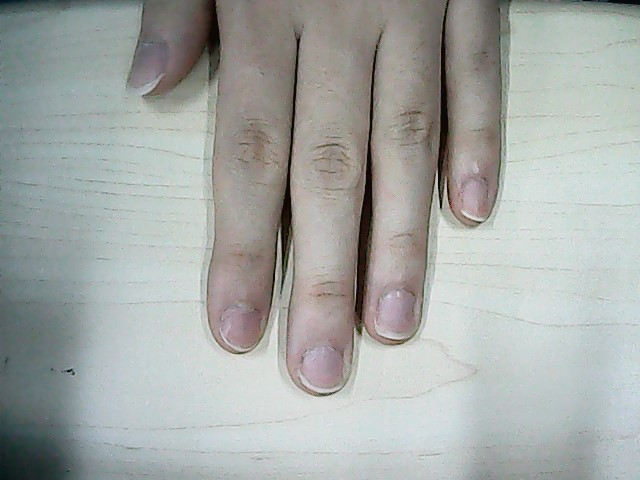nail: (127, 43, 164, 94), (304, 346, 343, 394), (224, 308, 260, 350), (382, 292, 412, 340), (464, 179, 486, 222)
